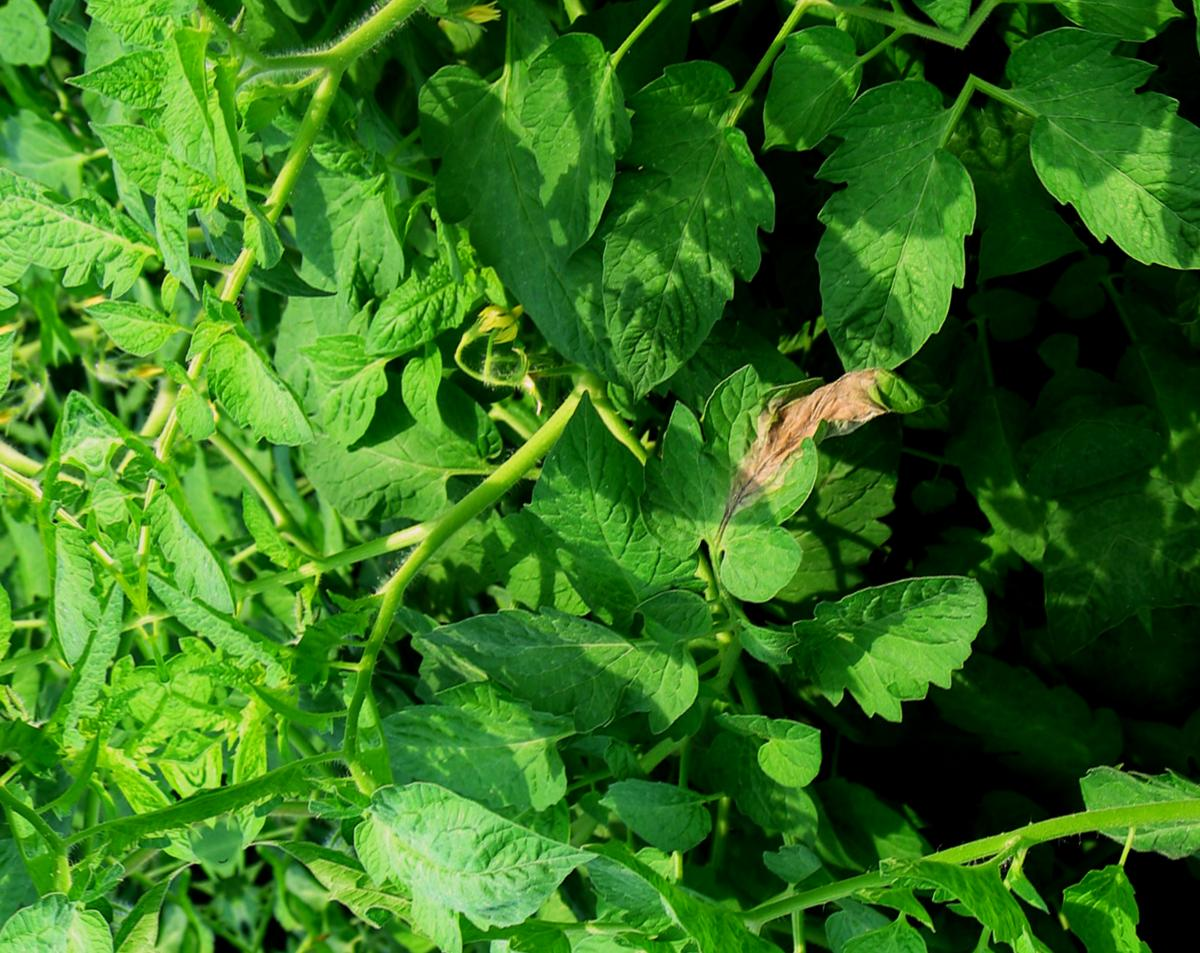Tomato leaf: (525, 40, 854, 407), (397, 524, 743, 801), (770, 58, 1030, 388), (234, 515, 539, 763), (345, 651, 628, 866), (746, 545, 1025, 761), (671, 240, 865, 542), (306, 749, 595, 930), (470, 25, 684, 256), (781, 572, 930, 817), (761, 157, 906, 408), (178, 476, 368, 639), (1042, 249, 1188, 442), (725, 7, 891, 171), (197, 296, 318, 478), (230, 727, 360, 859), (326, 141, 494, 214), (519, 908, 747, 953)
Tomato leaf late blight: (637, 339, 908, 609), (543, 534, 758, 749)
